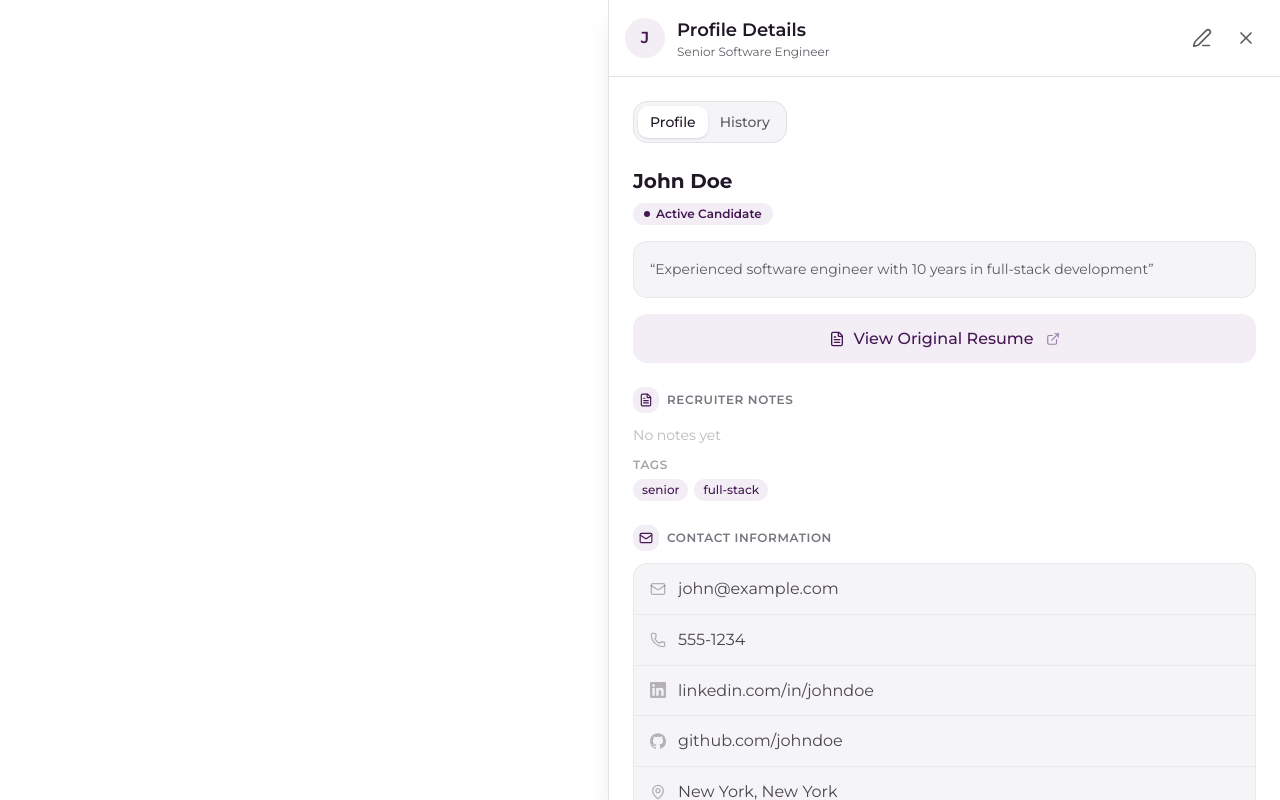
Test: ProfileDetailPanel › Cancel edit › discards changes when cancel clicked
Click the button named "Edit profile": coordinates (1202, 38) [1184, 20, 1220, 56]
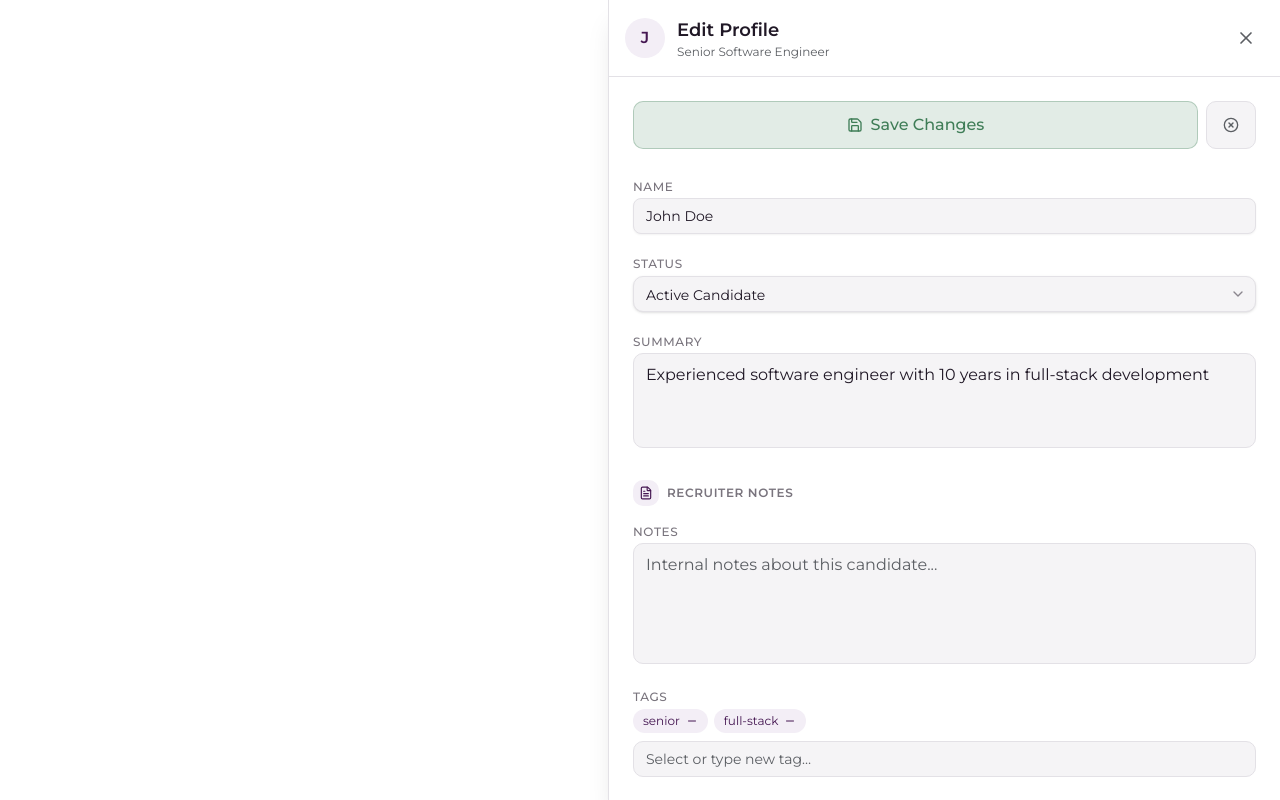
Change name
Replace the text in the field with placeholder "Full name" with "Changed Name": coordinates (944, 216) [633, 198, 1256, 234]
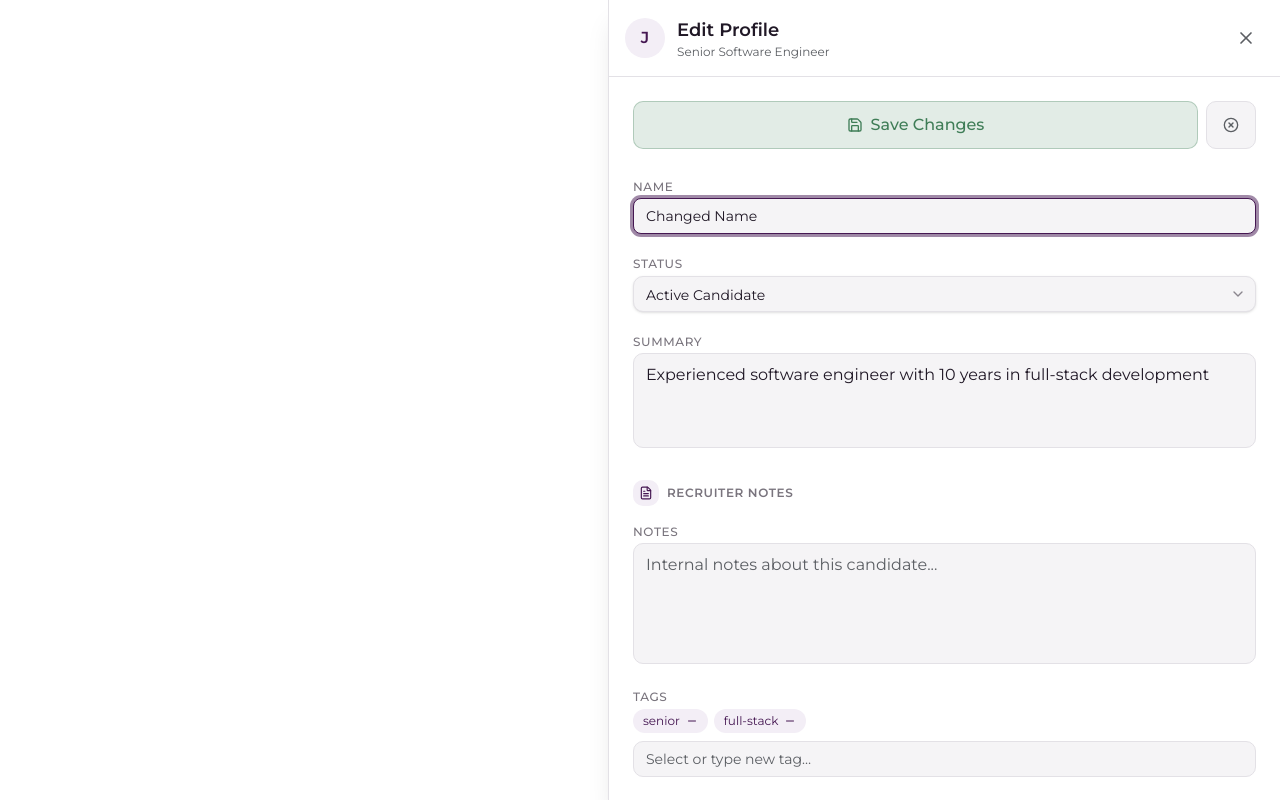
Click the 3rd button: coordinates (1231, 125) [1206, 101, 1256, 149]
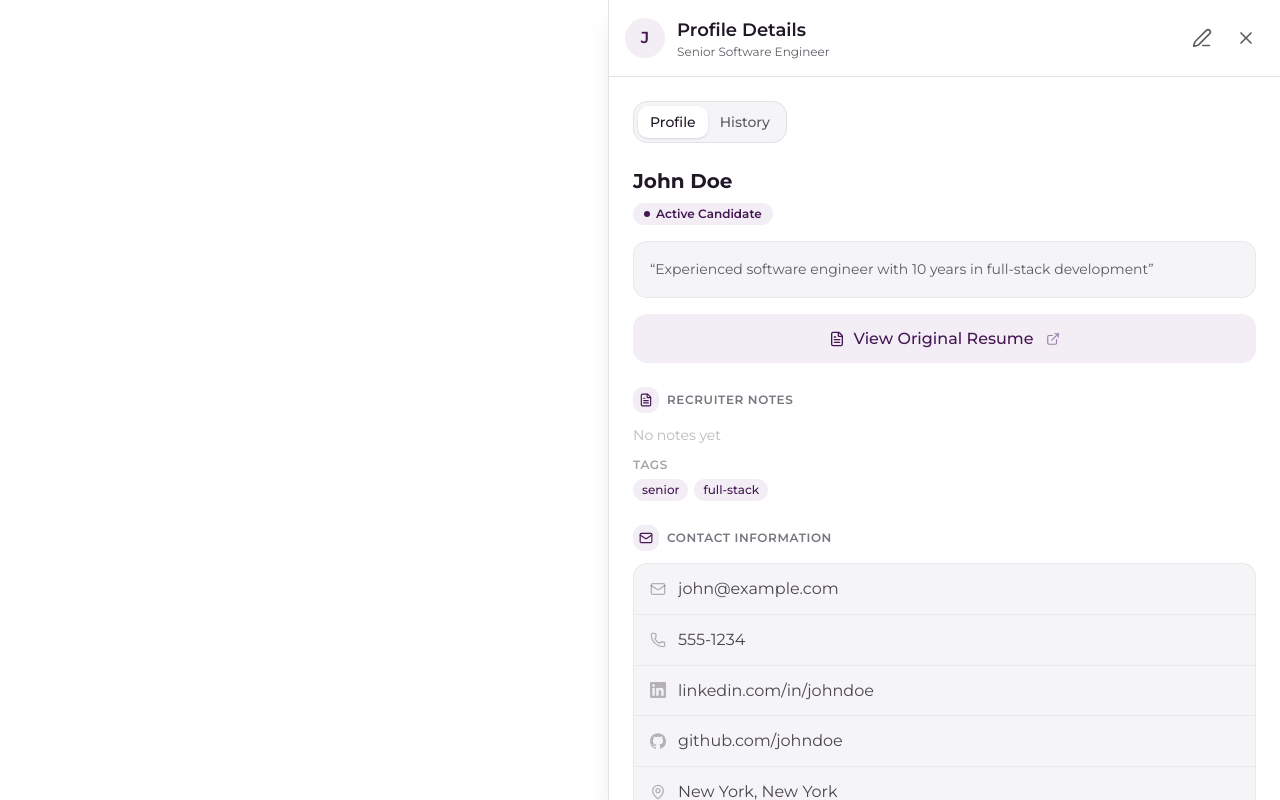
Expected: the heading "Profile Details" is shown, [677, 19, 806, 41]
